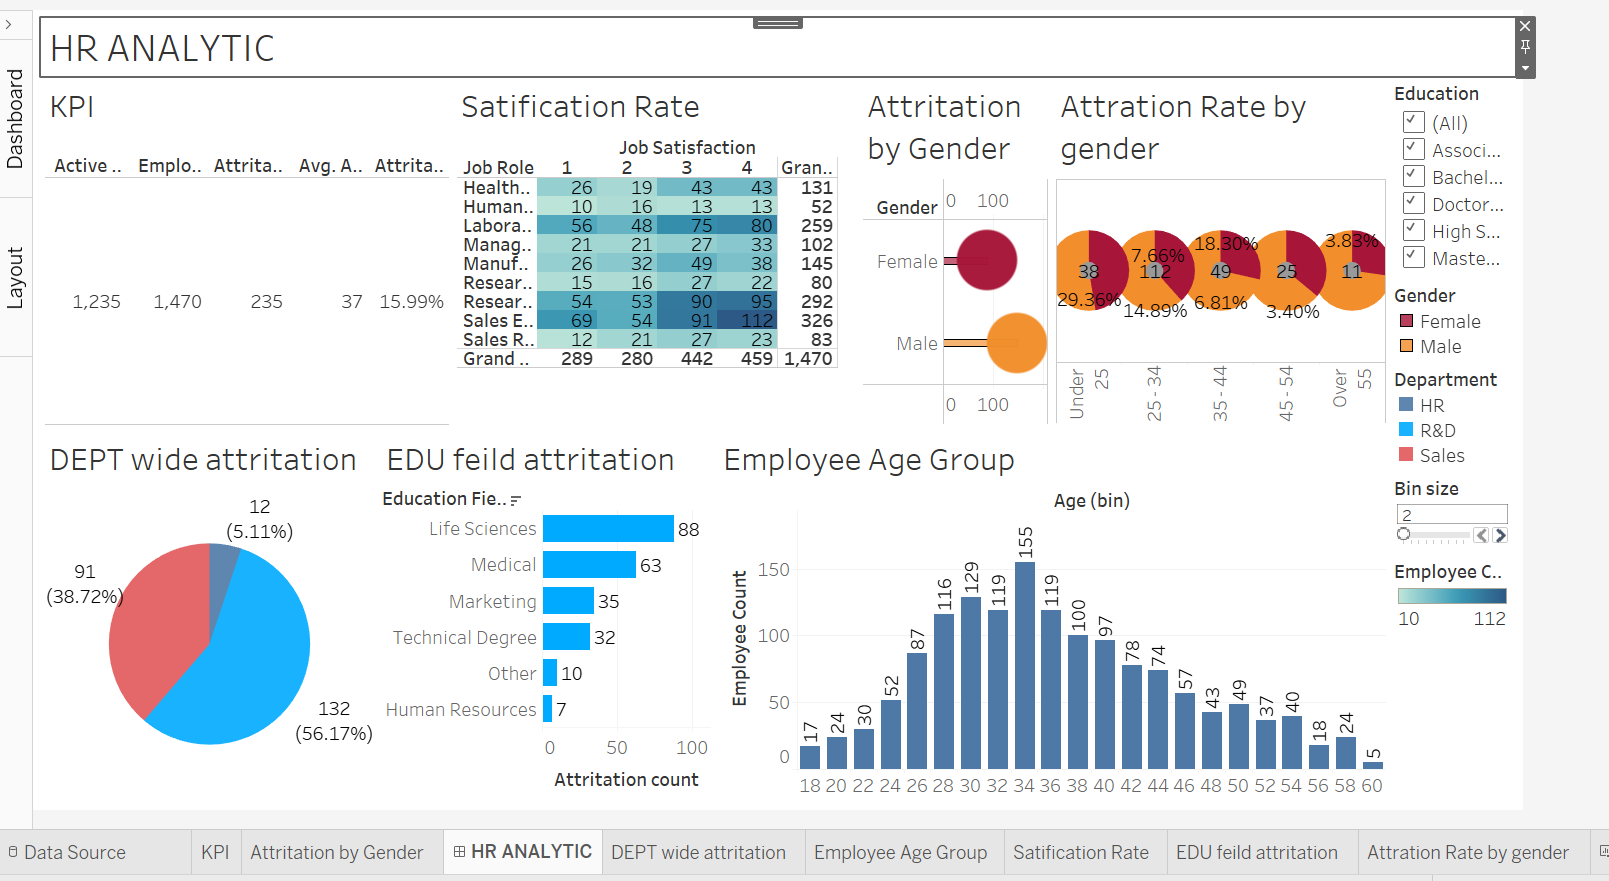

Layout of this report page (visuals, bound fields, positions):
{"tool":"tableau","page":{"name":"HR ANALYTIC","canvas":[1490,800],"ordinal":0},"visuals":[{"type":"title","box":[8,8,1474,42]},{"type":"worksheet","title":"KPI","mark":"Automatic","box":[8,50,411.7,360.6]},{"type":"worksheet","title":"Satification Rate","mark":"Square","rows":["Job Role"],"cols":["Job Satisfaction"],"box":[419.7,50,406.5,360.6]},{"type":"worksheet","title":"Attritation by Gender","mark":"Automatic","rows":["Gender"],"cols":["Calculation_1182476394675204096","Calculation_1182476394675204096"],"box":[826.2,50,193,360.6]},{"type":"worksheet","title":"Attration Rate by gender","mark":"Pie","rows":["Calculation_1182476394708422660","Calculation_1182476394708422660"],"cols":["CF_age band"],"box":[1019.2,50,337.8,360.6]},{"type":"filter","title":"KPI","param":"[federated.1lbu3nq0m5492013rkd9g16xjqdy].[none:Education:nk]","box":[1357,50,125,194]},{"type":"legend","title":"Attritation by Gender","param":"[federated.1lbu3nq0m5492013rkd9g16xjqdy].[none:Gender:nk]","box":[1357,244,125,66]},{"type":"legend","title":"DEPT wide attritation","param":"[federated.1lbu3nq0m5492013rkd9g16xjqdy].[none:Department:nk]","box":[1357,310,125,86]},{"type":"parameter","param":"[Parameters].[Parameter 1]","box":[1357,396,125,75]},{"type":"worksheet","title":"DEPT wide attritation","mark":"Pie","box":[8,410.6,337.2,381.4]},{"type":"worksheet","title":"EDU feild attritation","mark":"Automatic","rows":["Education Field"],"cols":["Calculation_1182476394675204096"],"box":[345.2,410.6,337.3,381.4]},{"type":"worksheet","title":"Employee Age Group","mark":"Automatic","rows":["Employee Count"],"cols":["Age (bin)"],"box":[682.5,410.6,674.5,381.4]},{"type":"legend","title":"Satification Rate","param":"[federated.1lbu3nq0m5492013rkd9g16xjqdy].[sum:Employee Count:qk]","box":[1357,471,125,65]}]}

Visuals, with their boxes on the page's 1490x800 design canvas (x1, y1, x2, y2). These are canvas units, not pixel positions in the 1609x881 screenshot, which may show the page scaled, cropped or inside an application window:
title: 8, 8, 1482, 50
"KPI" worksheet: 8, 50, 420, 411
"Satification Rate" worksheet (Square marks): 420, 50, 826, 411
"Attritation by Gender" worksheet: 826, 50, 1019, 411
"Attration Rate by gender" worksheet (Pie marks): 1019, 50, 1357, 411
"KPI" filter: 1357, 50, 1482, 244
"Attritation by Gender" legend: 1357, 244, 1482, 310
"DEPT wide attritation" legend: 1357, 310, 1482, 396
parameter: 1357, 396, 1482, 471
"DEPT wide attritation" worksheet (Pie marks): 8, 411, 345, 792
"EDU feild attritation" worksheet: 345, 411, 682, 792
"Employee Age Group" worksheet: 682, 411, 1357, 792
"Satification Rate" legend: 1357, 471, 1482, 536
